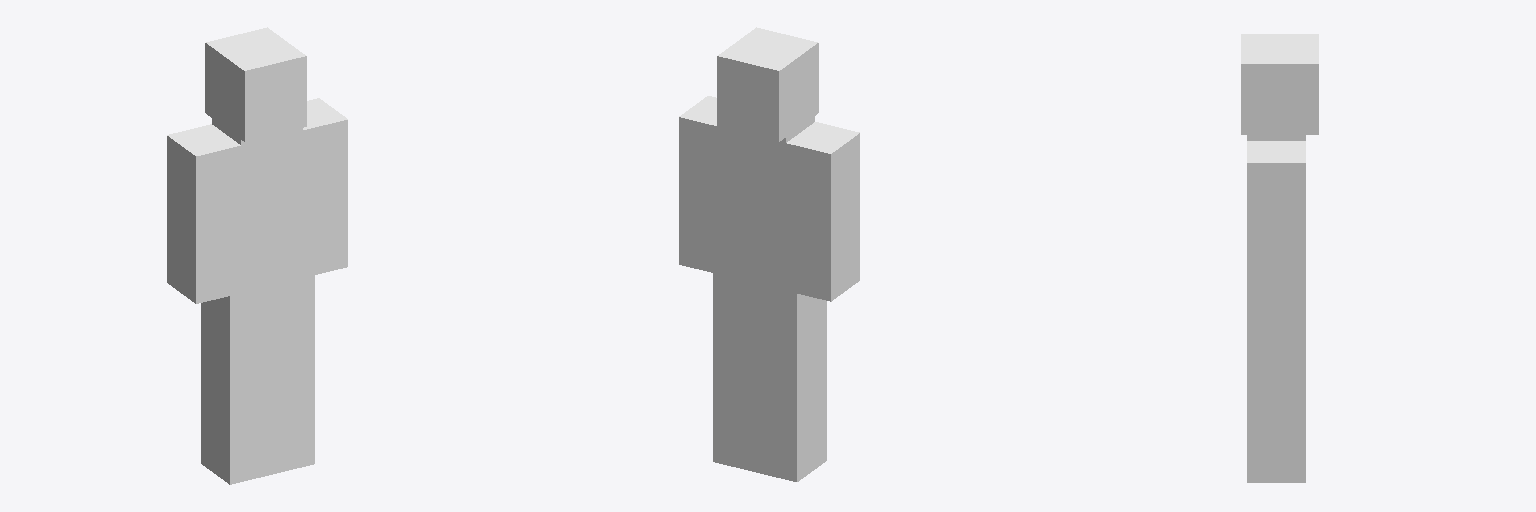
File: ozisan.ver3.oko.obj
3 renders of one model, left to right at view 1: azimuth 30°, elevation 25°; view 2: azimuth 150°, elevation 25°; view 3: azimuth 270°, elevation 25°, orthographic.
Parts seen in each view (by area): view 1: object 1; view 2: object 1; view 3: object 1.
Part boxes in pixels (bbox=[...]): object 1: bbox=[167, 27, 347, 484]; object 1: bbox=[679, 27, 859, 481]; object 1: bbox=[1241, 34, 1318, 482].
Size of the model in its own units: 2.7 by 7 by 1.2.